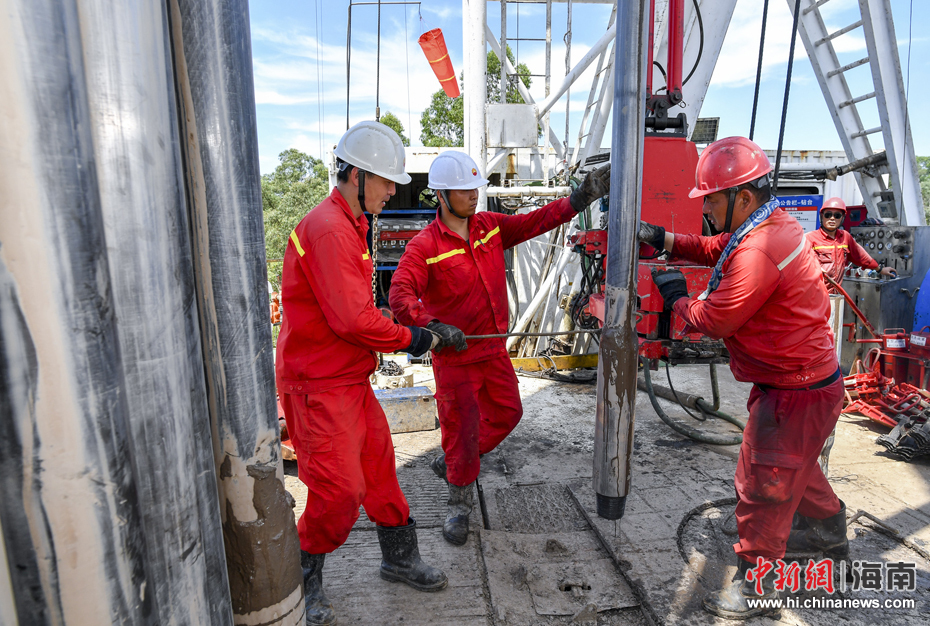safetyhat: (662, 104, 865, 574), (239, 86, 426, 553), (405, 137, 594, 510)
